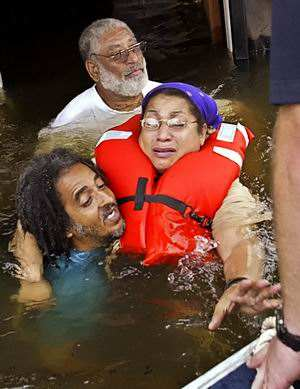other_clothes: (59, 78, 165, 144)
reflective_clothes: (93, 114, 243, 278)
